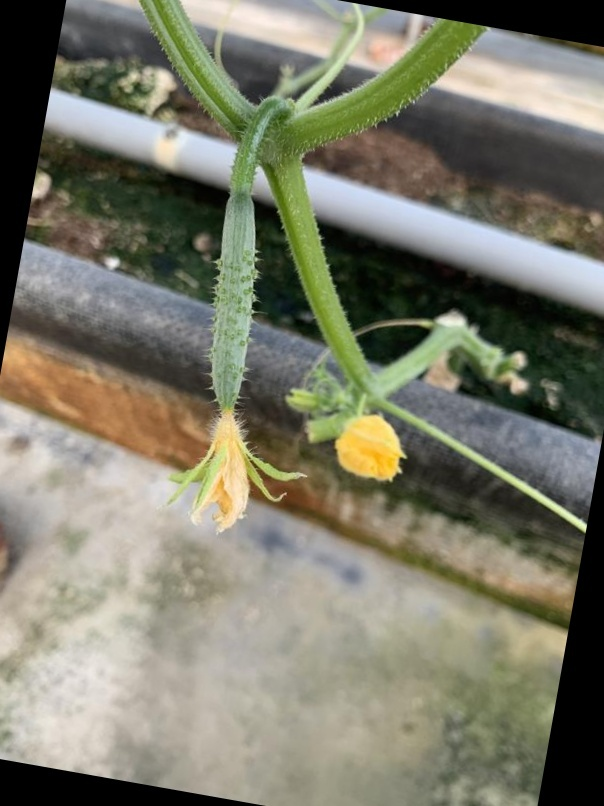bear: (177, 184, 292, 519)
bud: (332, 409, 405, 488)
